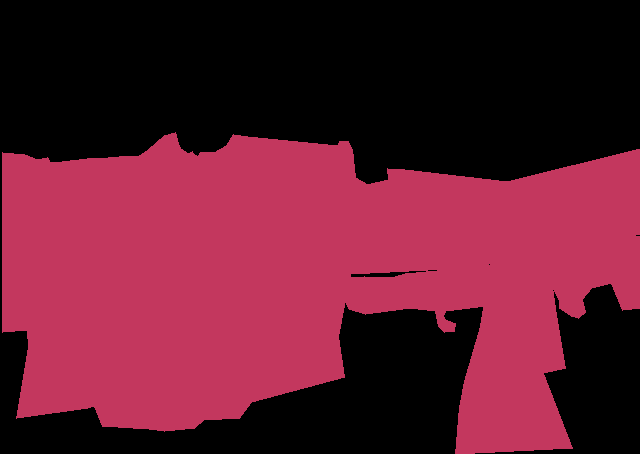Airplane: (2, 132, 640, 454), (342, 235, 640, 333)
